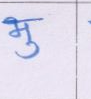u_matra: (16, 41, 41, 59)
